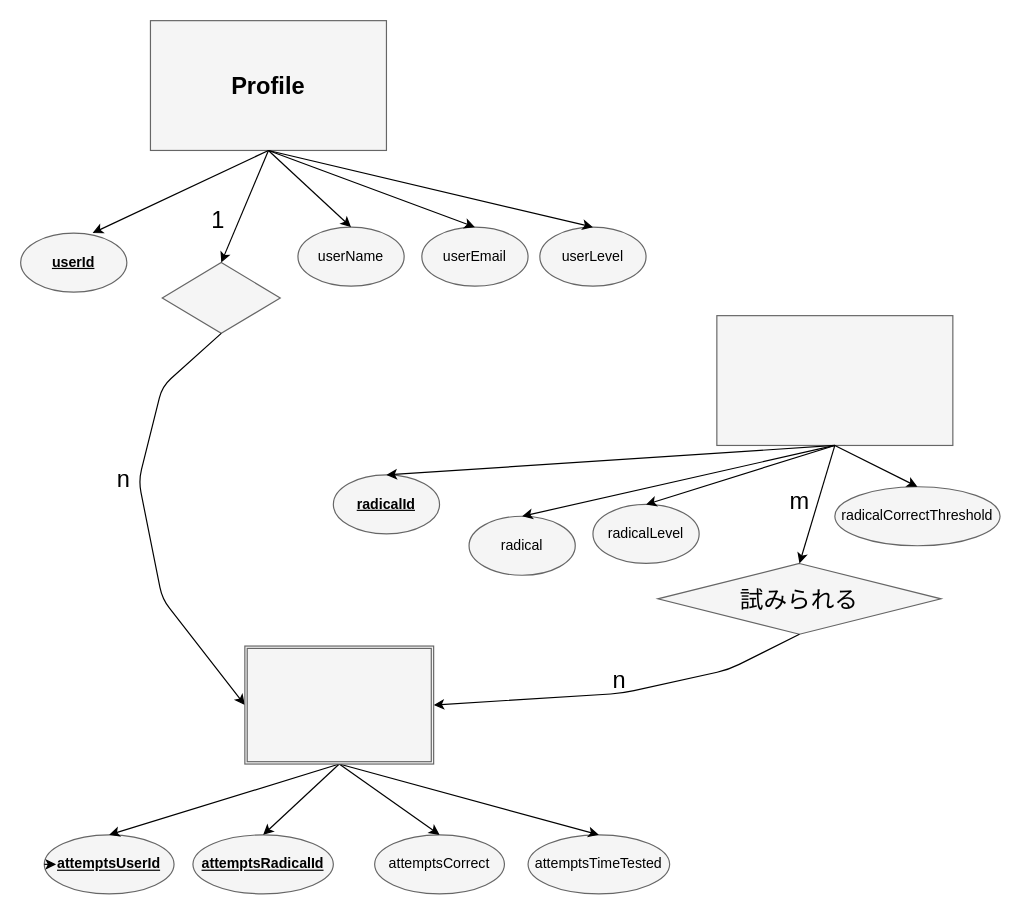
This 1021x914 diagram has some shape labels left out. The shapes that lost their labels are listed below. From the top down, each one's centre as x and y in pixels, then its label:
the point at 220,297: する
the point at 834,379: Radicals
the point at 339,704: Attempts
